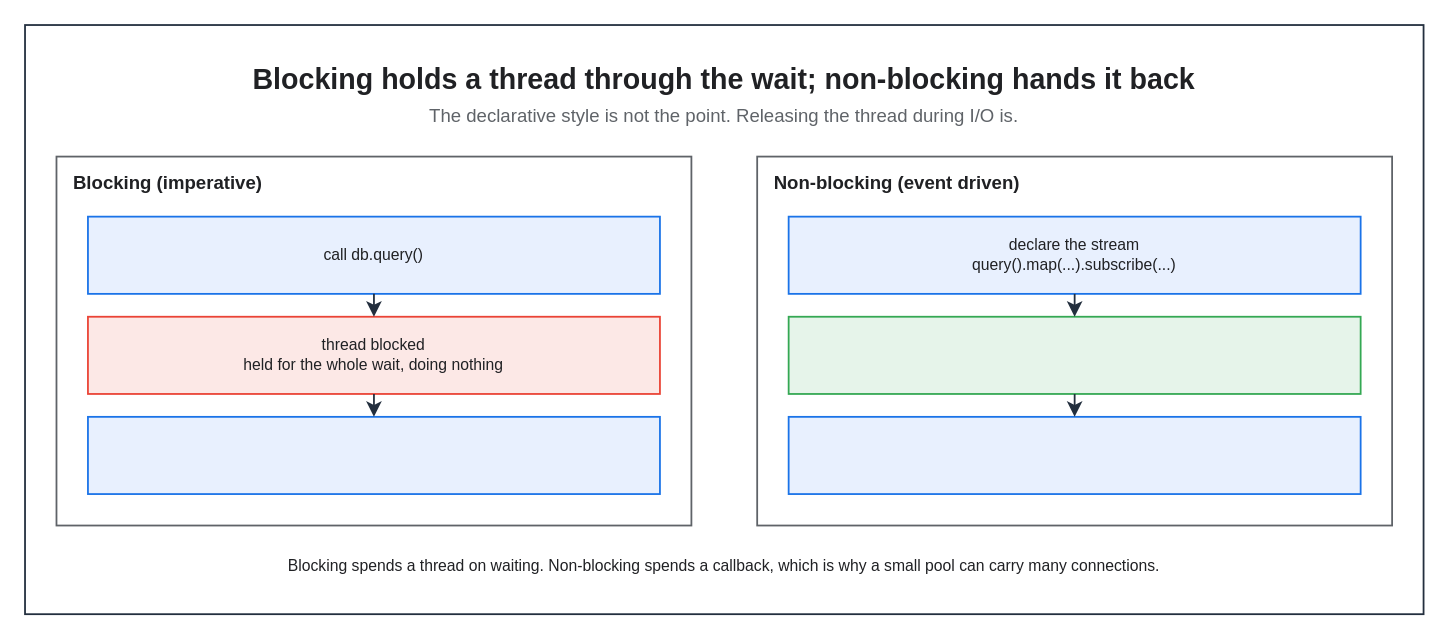
This 1450x641 diagram has some shape labels left out. The centre of each missing label's shape, as x and y in pixels:
"data arrives, onNext runs possibly on a different thread" goes at (1074,454).
"thread released free to serve another request" goes at (1074,354).
"use(result) resumes on the same thread" goes at (373,454).
